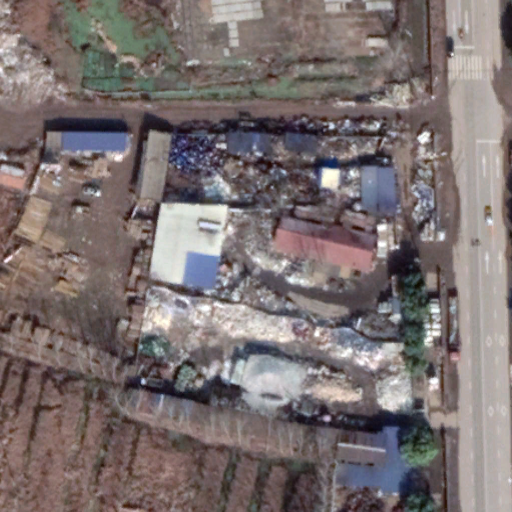msw: (131, 116, 435, 414)
